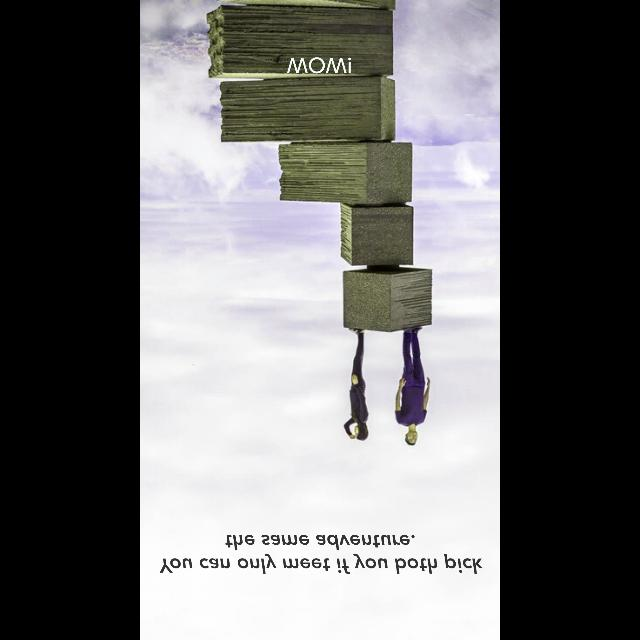backgroundimage: (140, 1, 500, 640)
text: (160, 534, 482, 574), (287, 58, 351, 74)
